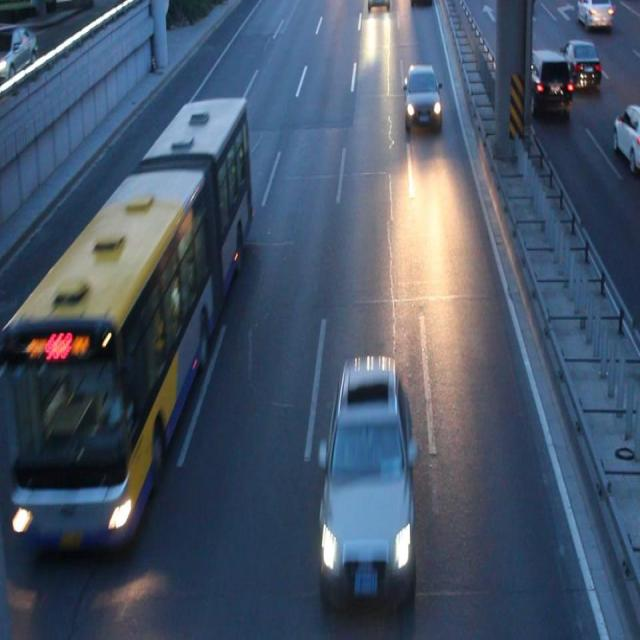car: (322, 355, 413, 578), (514, 50, 570, 110), (404, 64, 440, 128), (612, 100, 640, 170), (556, 41, 598, 86), (575, 1, 612, 27), (366, 1, 389, 13), (410, 1, 431, 10)
van: (19, 99, 250, 543)
